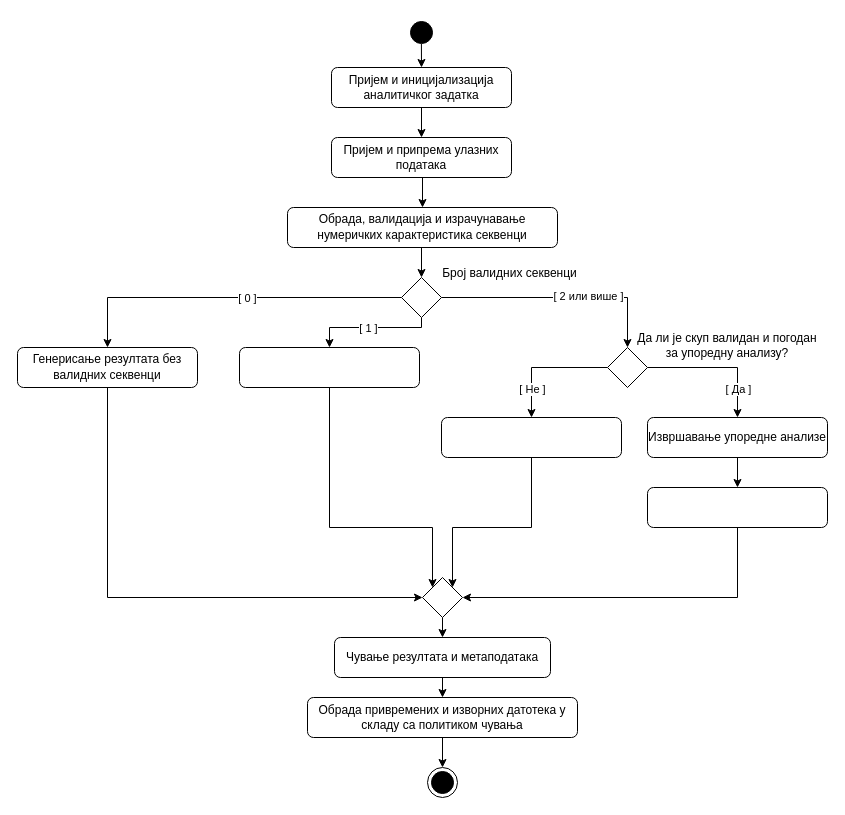
This 845x815 diagram has some shape labels left out. The centre of each missing label's shape, as x and y in pixels:
Генерисање резултата анализе једне секвенце: pixel 329 367
Генерисање резултата без упоредне анализе: pixel 531 437
Генерисање резултата упоредне анализе: pixel 737 507
